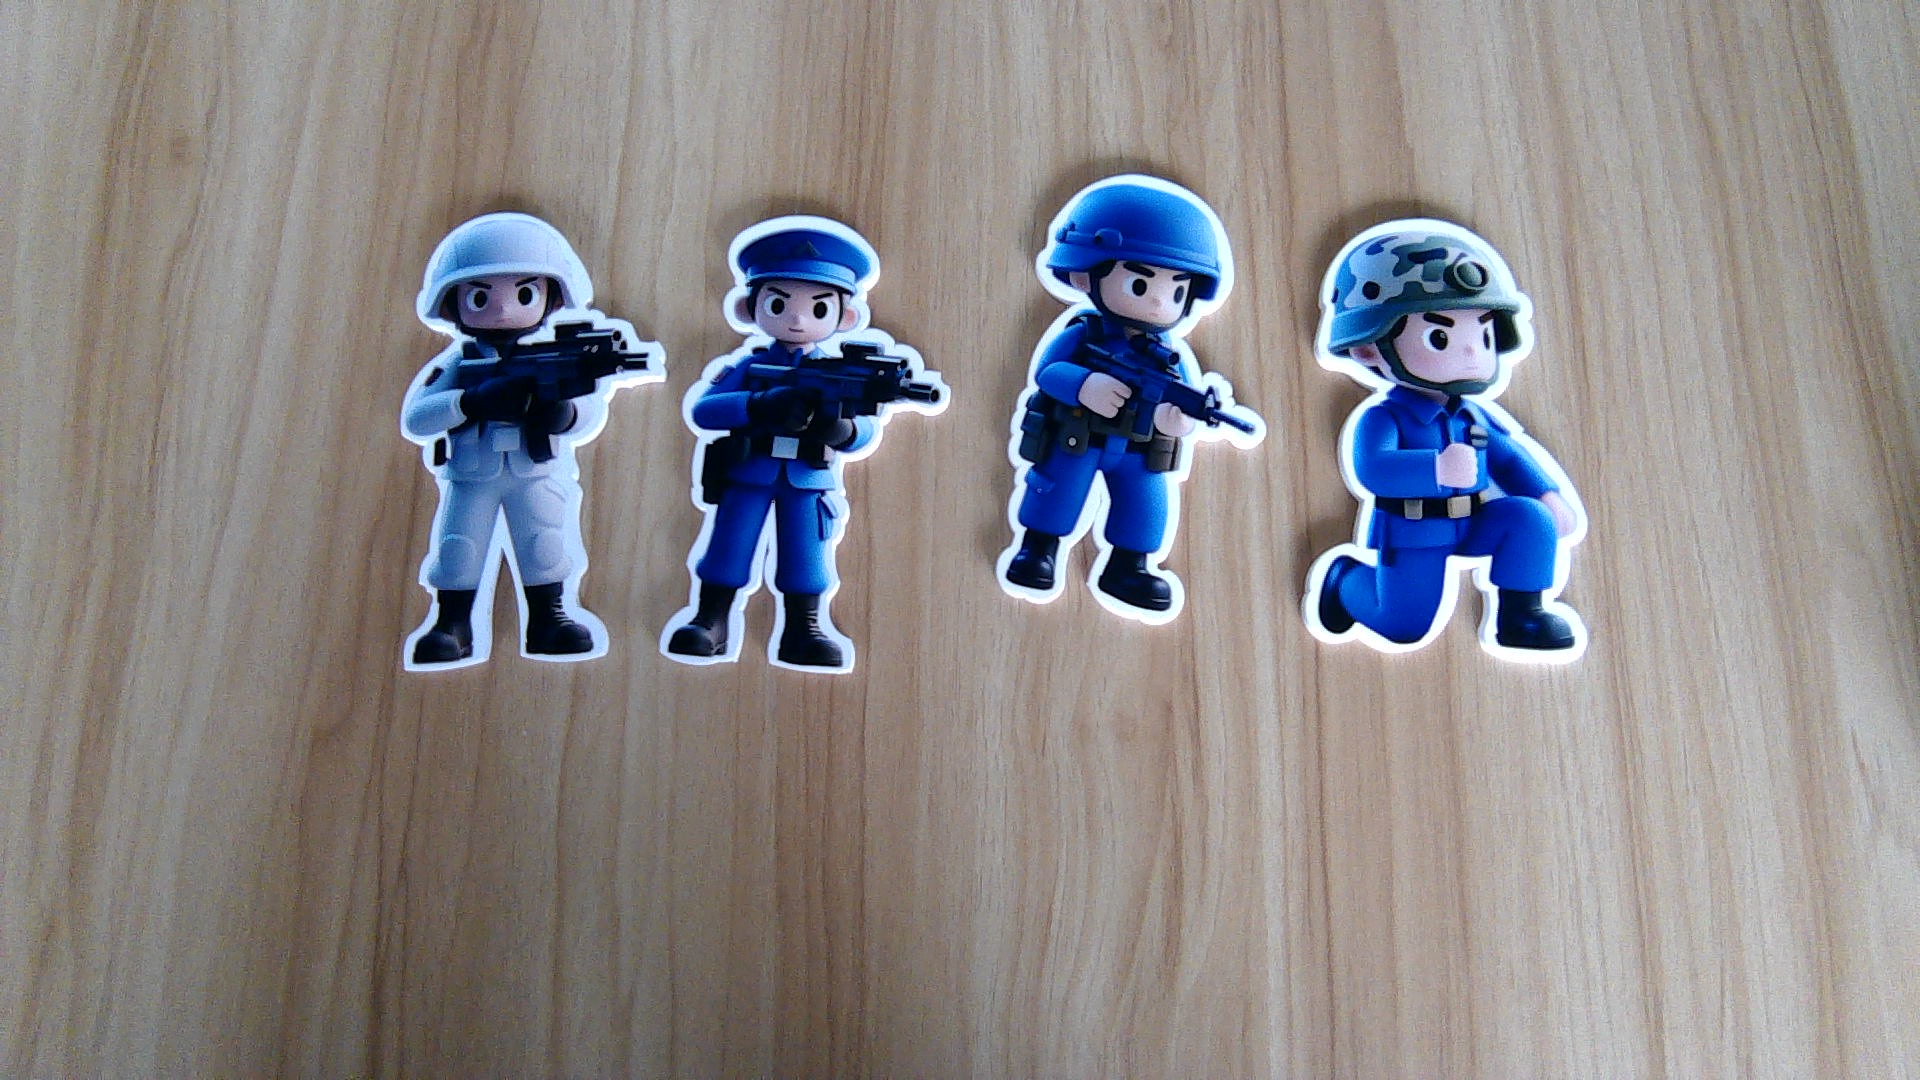人质: (392, 339, 659, 675)
敌人2: (655, 348, 944, 678), (1292, 402, 1601, 669), (998, 330, 1253, 621)
